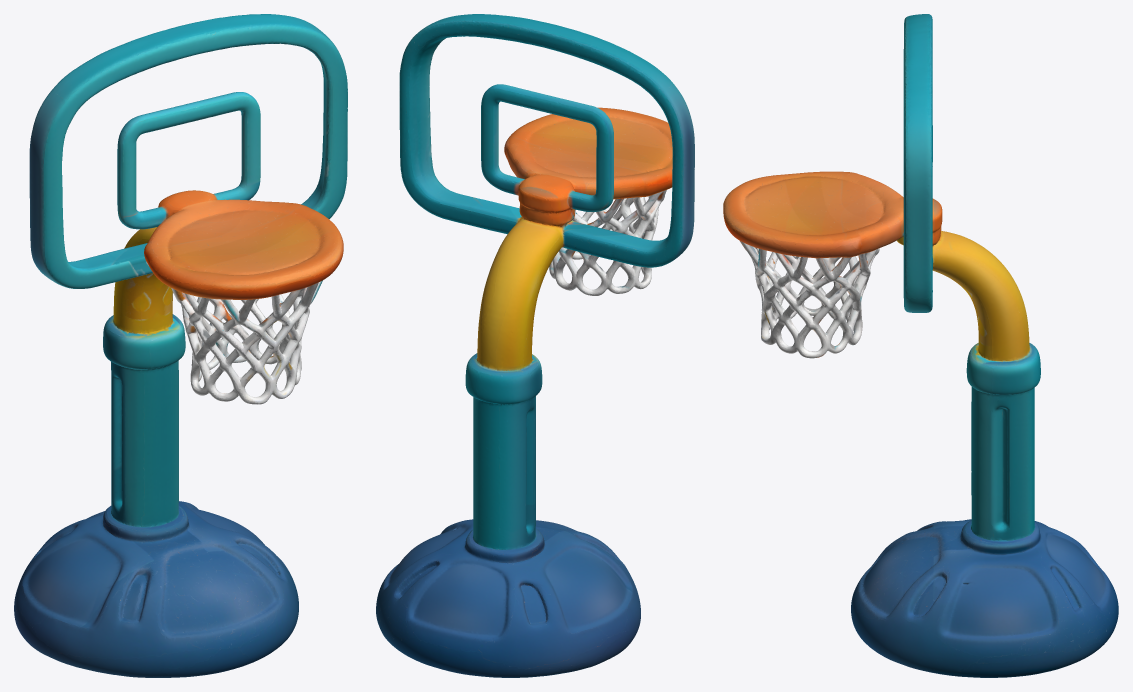
The model's file is 我是篮筐.glb.
3 renders of one model, left to right at view 1: azimuth 30°, elevation 25°; view 2: azimuth 150°, elevation 25°; view 3: azimuth 270°, elevation 25°, orthographic. The views are drawn at different scales.
Visible parts, largest first — view 1: geometry_0; view 2: geometry_0; view 3: geometry_0.
Boxes of the visible parts, x1=… form: geometry_0: x1=14, y1=14, x2=347, y2=677; geometry_0: x1=376, y1=14, x2=694, y2=677; geometry_0: x1=723, y1=14, x2=1118, y2=677.
Size of the model in its own units: 0.4684 by 0.9 by 0.5593.
Materials: 1 (1 with a texture image).
